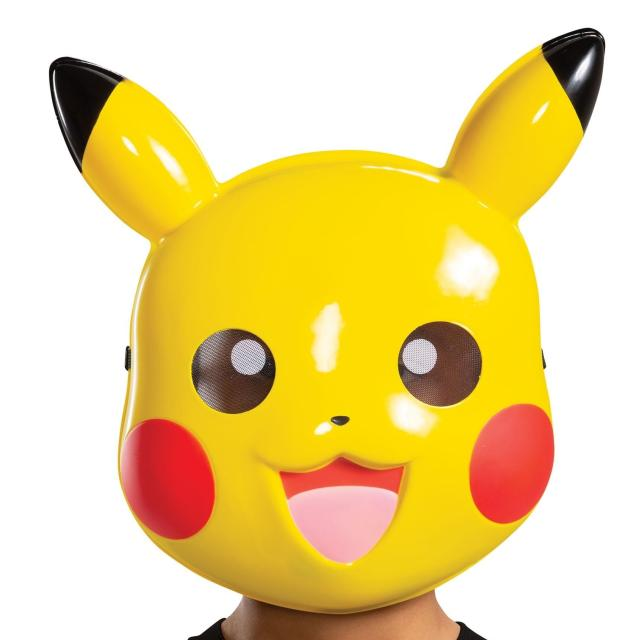pikachu: (43, 21, 623, 616)
